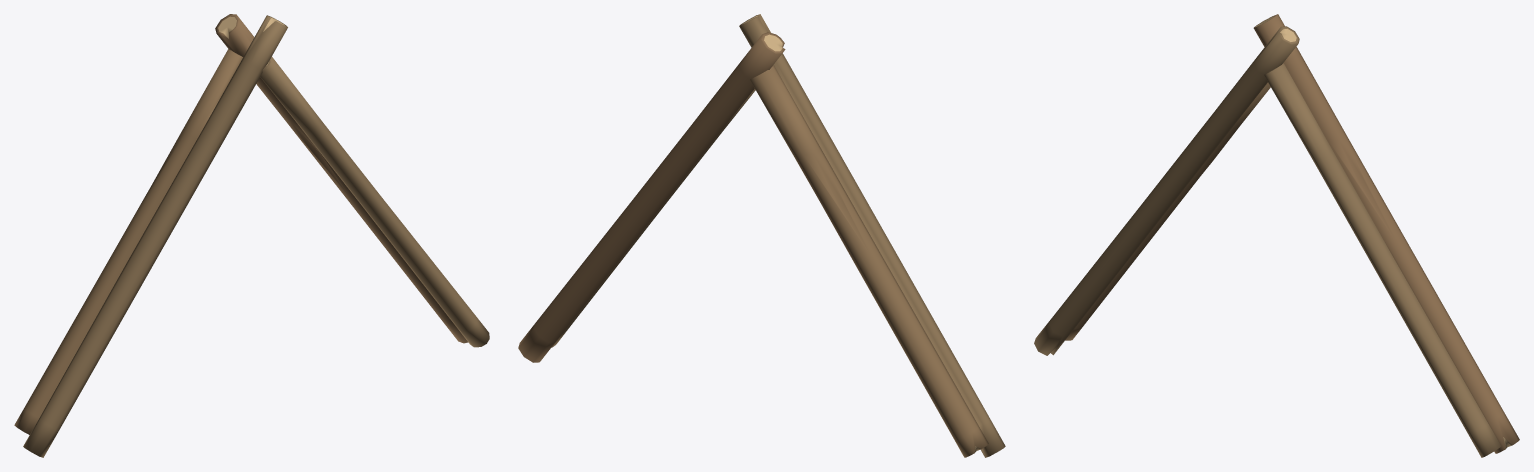
File: rpgpp_ag_roof_01_6x5x3_end_01a.fbx
3 renders of one model, left to right at view 1: azimuth 30°, elevation 25°; view 2: azimuth 150°, elevation 25°; view 3: azimuth 330°, elevation 25°, orthographic.
Parts seen in each view (by area): view 1: rpgpp_ag_roof_01_6x5x3_end_01a; view 2: rpgpp_ag_roof_01_6x5x3_end_01a; view 3: rpgpp_ag_roof_01_6x5x3_end_01a.
Boxes of the visible parts, x1,y1,x2,y2 form: rpgpp_ag_roof_01_6x5x3_end_01a: (14,14,489,457); rpgpp_ag_roof_01_6x5x3_end_01a: (518,14,1005,457); rpgpp_ag_roof_01_6x5x3_end_01a: (1034,14,1519,457).
Bounding box in the file's own units: 8.01 × 6.28 × 0.802.
